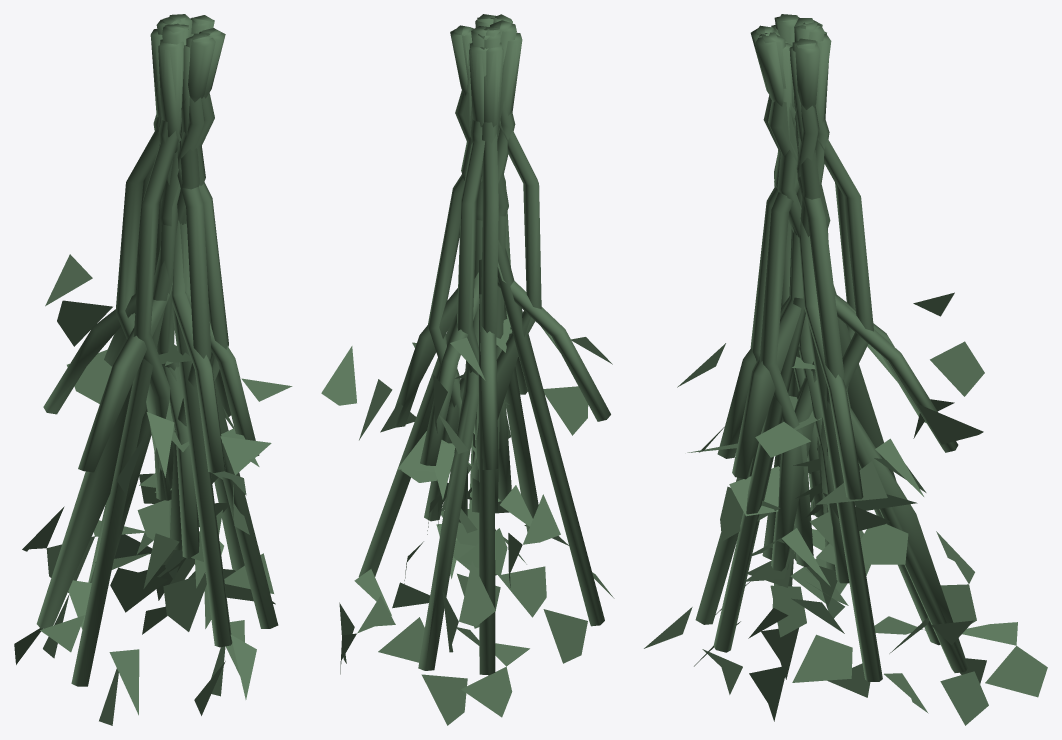
Rendered from Kwiaty1.fbx.
The picture shows the model from 3 angles, left to right: view 1: azimuth 30°, elevation 25°; view 2: azimuth 150°, elevation 25°; view 3: azimuth 270°, elevation 25°; orthographic projection. The views are drawn at different scales.
Visible parts, largest first — view 1: Łodyga2, Kwiatki.001; view 2: Łodyga2, Kwiatki.001; view 3: Łodyga2, Kwiatki.001.
Part boxes in pixels (left/top/right/bottom): Łodyga2: left=36, top=14, right=278, bottom=686; Kwiatki.001: left=14, top=254, right=292, bottom=725; Łodyga2: left=358, top=14, right=610, bottom=675; Kwiatki.001: left=321, top=314, right=614, bottom=725; Łodyga2: left=695, top=14, right=968, bottom=681; Kwiatki.001: left=644, top=292, right=1047, bottom=725.
Size of the model in its own units: 32.47 by 98.06 by 51.1.
